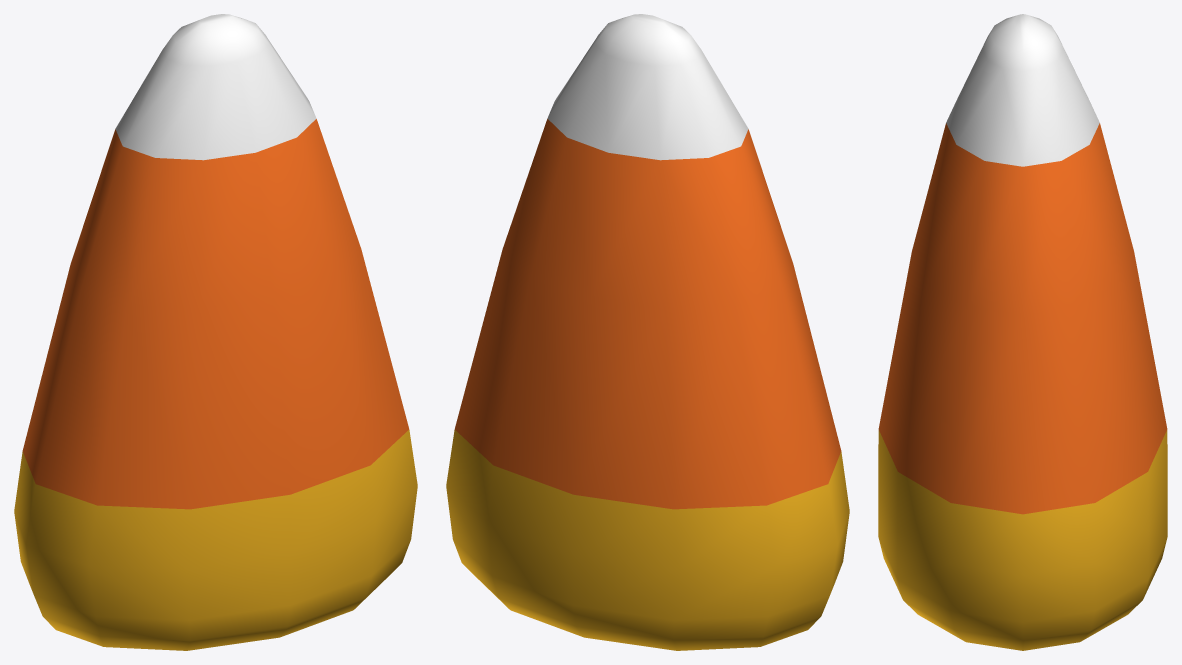
The model's file is candyCorn.glb.
The picture shows the model from 3 angles, left to right: view 1: azimuth 30°, elevation 25°; view 2: azimuth 150°, elevation 25°; view 3: azimuth 270°, elevation 25°; orthographic projection. The views are drawn at different scales.
Visible parts, largest first — view 1: candyCorn; view 2: candyCorn; view 3: candyCorn.
Part boxes in pixels (x1,y1,x2,y2): candyCorn: [14, 14, 417, 650]; candyCorn: [446, 14, 849, 650]; candyCorn: [878, 14, 1167, 650].
Size of the model in its own units: 0.18 by 0.2618 by 0.1227.
